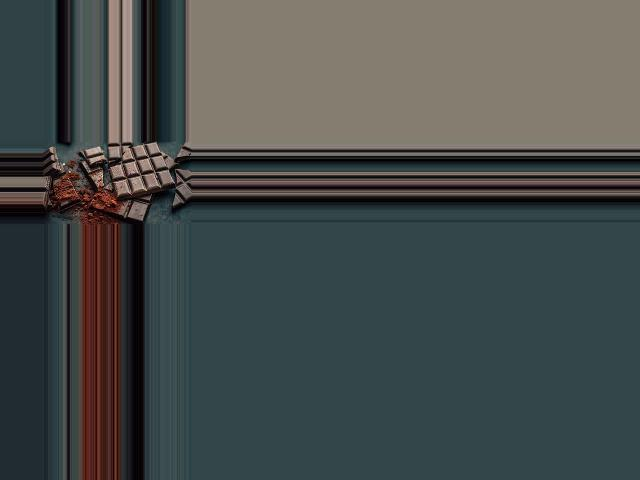chocolate: (110, 142, 176, 198)
